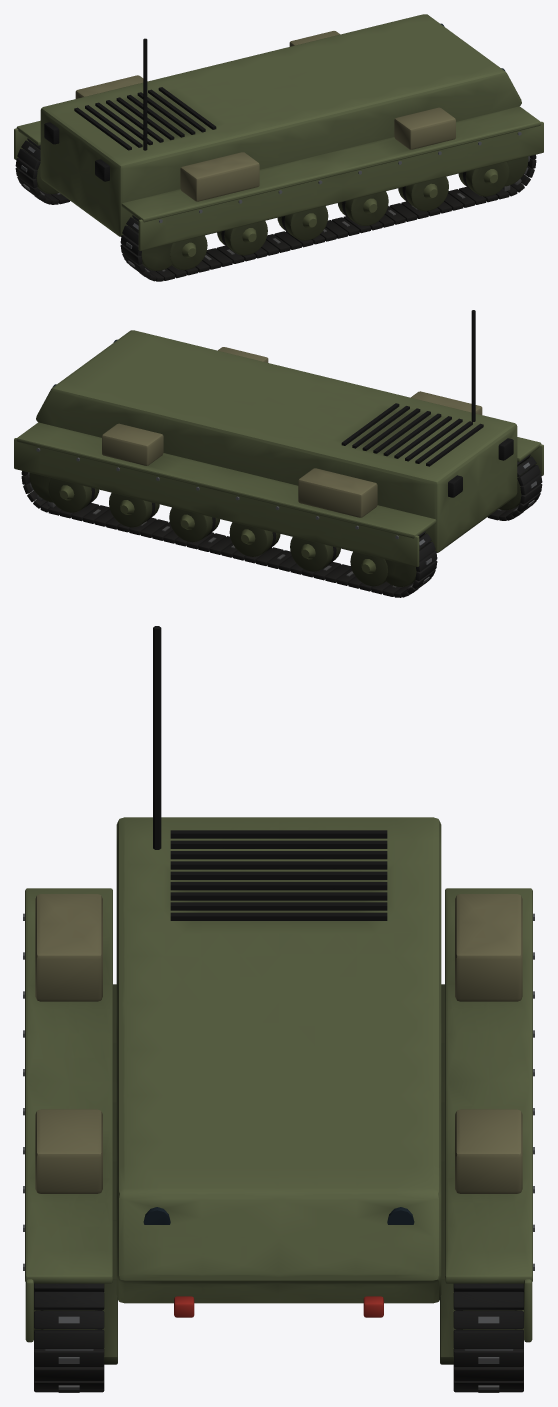
The model's file is spaag_base.glb.
3 views of the same model, one above another, from view 1: azimuth 30°, elevation 25°; view 2: azimuth 150°, elevation 25°; view 3: azimuth 270°, elevation 25° (orthographic). The views are drawn at different scales.
Visible parts, largest first — view 1: Cone; view 2: Cone; view 3: Cone.
Part boxes in pixels (x1,y1,x2,y2): Cone: [14, 14, 543, 281]; Cone: [14, 310, 543, 597]; Cone: [23, 626, 534, 1392].
Size of the model in its own units: 7.08 by 3.55 by 3.78.
